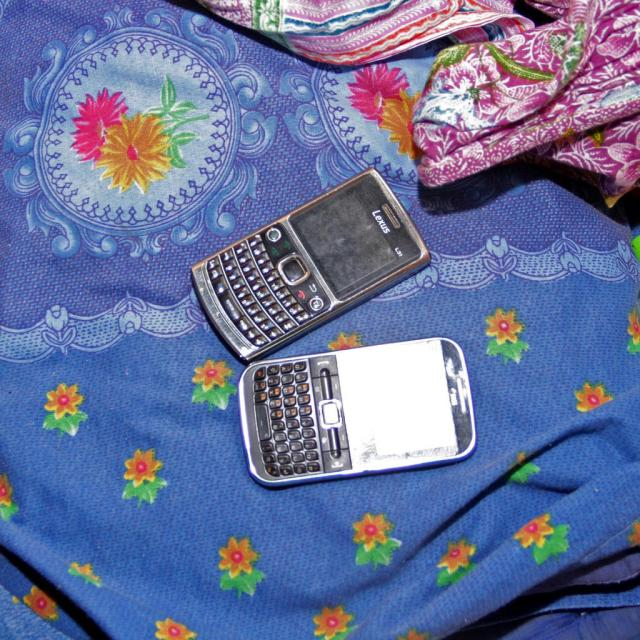Phone: (191, 169, 431, 363), (237, 338, 477, 488)
